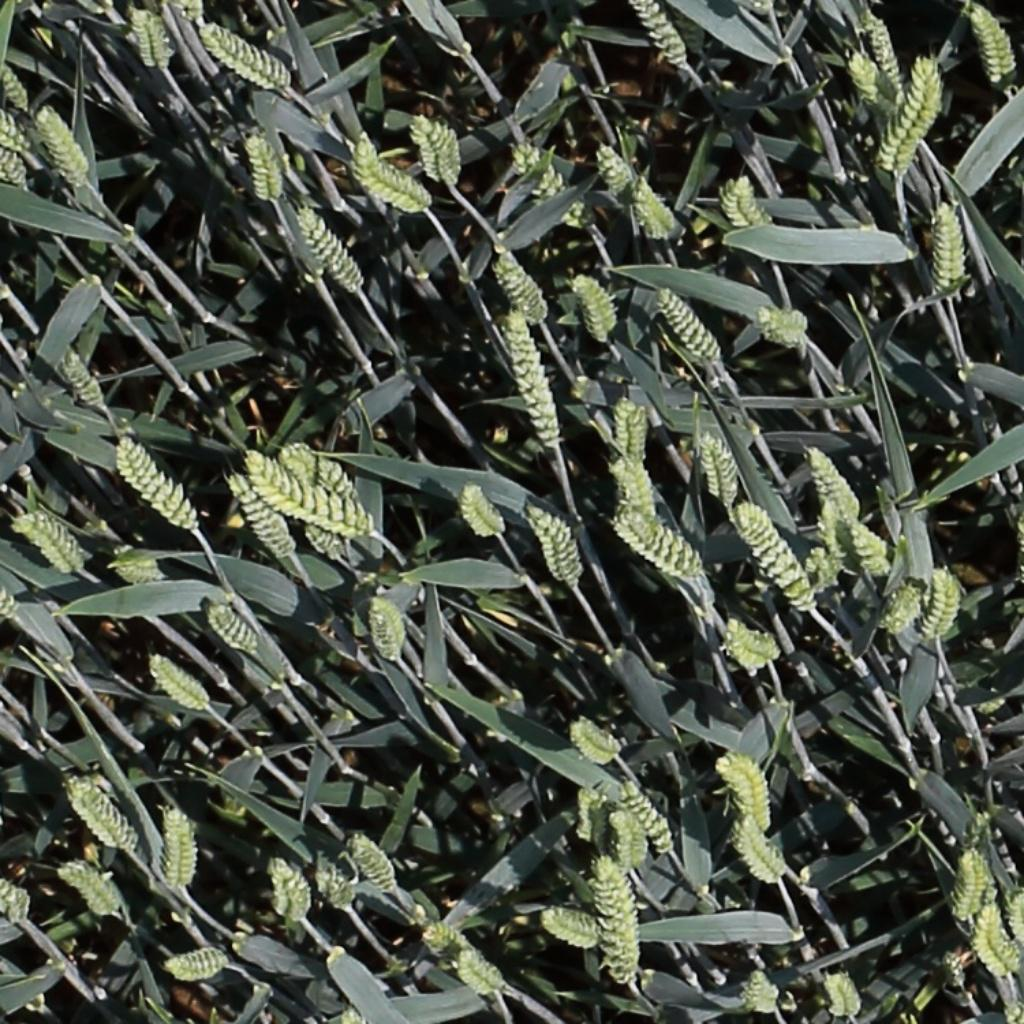0-0: (240, 442, 370, 537), (734, 501, 820, 617), (114, 435, 202, 533), (277, 442, 347, 563), (505, 303, 562, 451), (883, 51, 943, 176), (293, 199, 368, 296), (422, 914, 512, 994), (223, 466, 297, 562), (655, 281, 727, 368), (202, 23, 289, 90), (615, 514, 704, 578), (599, 851, 640, 989), (32, 96, 92, 189), (309, 450, 370, 540), (804, 441, 866, 529), (617, 776, 681, 861), (65, 778, 136, 853), (354, 141, 431, 210), (524, 501, 582, 589), (492, 244, 551, 326), (966, 1, 1017, 94), (722, 749, 775, 836), (632, 0, 694, 72), (15, 512, 84, 576), (864, 10, 910, 102), (345, 830, 404, 901), (55, 342, 111, 415), (735, 815, 790, 888), (147, 653, 211, 715), (630, 170, 682, 244), (611, 453, 659, 531), (58, 862, 121, 921), (572, 266, 618, 346), (156, 940, 234, 986), (845, 514, 898, 581), (977, 902, 1019, 985), (458, 477, 510, 542), (409, 106, 450, 188), (419, 107, 461, 187), (126, 1, 169, 75), (243, 124, 282, 204), (699, 430, 738, 510), (368, 588, 406, 670), (727, 167, 772, 234), (924, 563, 959, 648), (206, 600, 259, 656), (592, 135, 637, 199), (610, 805, 647, 879), (846, 45, 890, 107), (723, 621, 782, 666), (163, 804, 191, 898), (935, 195, 961, 296), (820, 492, 847, 588), (570, 718, 625, 765), (955, 843, 984, 932), (882, 580, 925, 640), (309, 864, 357, 917), (277, 853, 309, 931), (454, 950, 507, 996), (268, 853, 300, 927), (0, 114, 30, 191), (0, 57, 36, 120), (542, 910, 604, 946), (618, 390, 644, 469), (826, 966, 862, 1022), (0, 87, 28, 154), (746, 963, 780, 1018), (577, 783, 603, 850), (808, 542, 838, 596), (756, 309, 811, 337), (942, 944, 973, 993), (0, 879, 31, 928), (0, 548, 19, 621), (1011, 506, 1024, 585), (331, 1001, 375, 1024)
